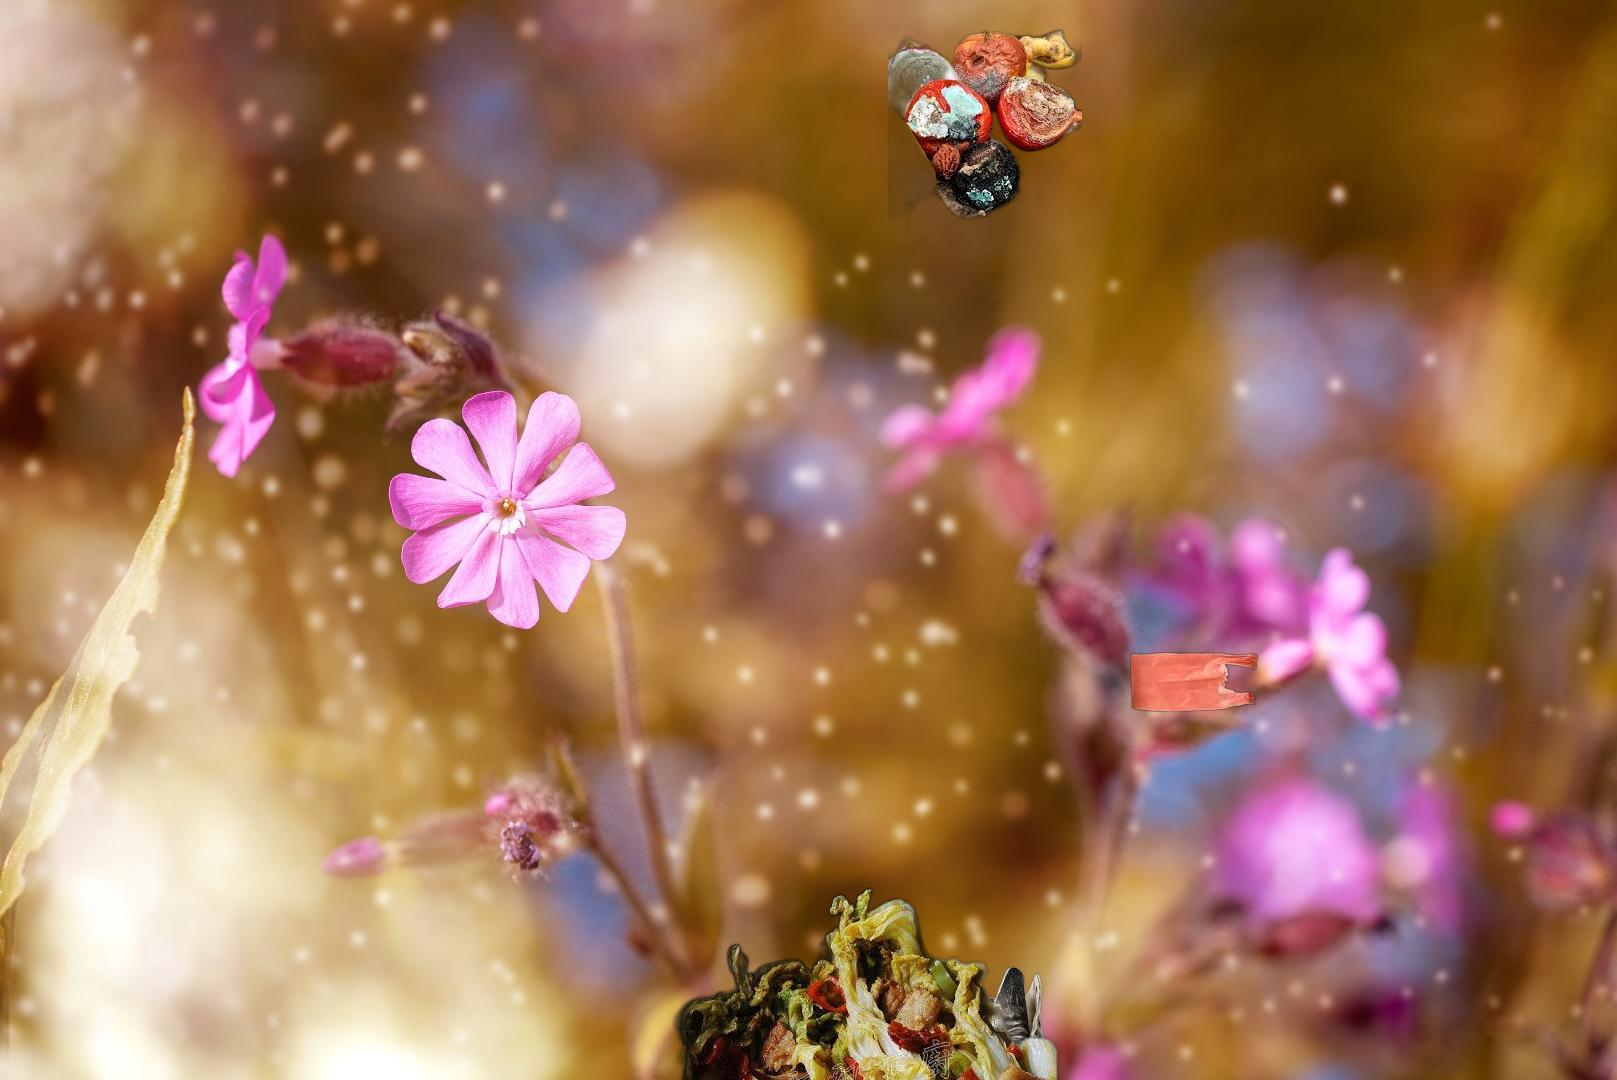biological: (657, 884, 1060, 1080), (888, 24, 1082, 283)
plastic-bag: (1127, 487, 1260, 715)
shoes: (933, 964, 1084, 1080)
